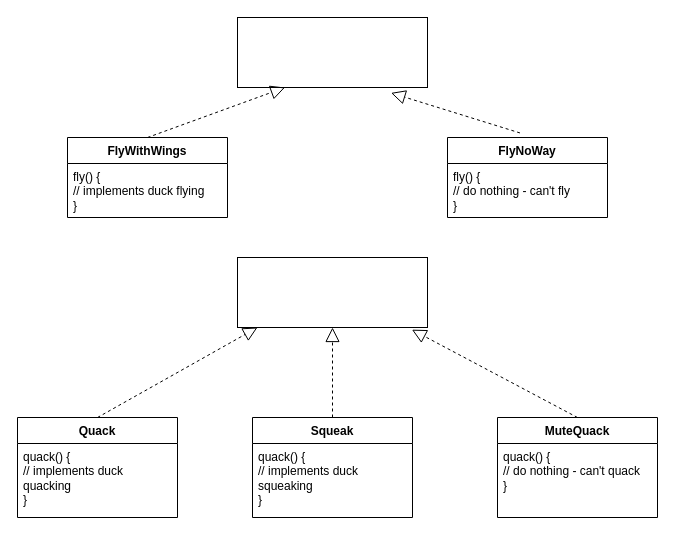
This 675x538 diagram has some shape labels left out. The box of each missing label's shape, as (x1, y1, x2, y2) in pixels:
<<Interface>> FlyBehavior fly(): (236, 16, 428, 88)
<<Interface>> QuackBehavior quack(): (236, 256, 428, 328)
